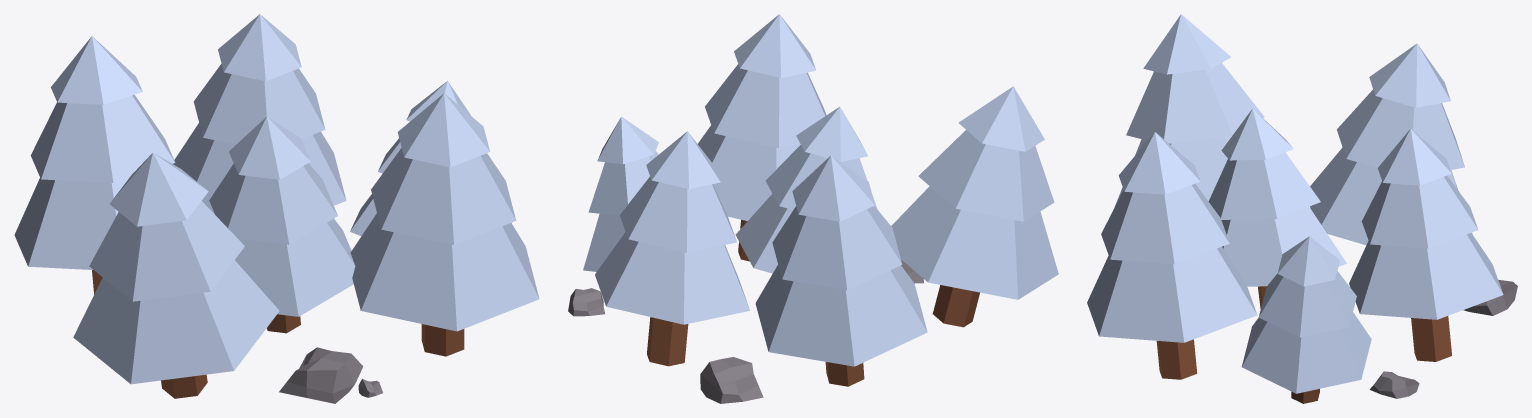
The model's file is SnowyForest.fbx.
The picture shows the model from 3 angles, left to right: view 1: azimuth 30°, elevation 25°; view 2: azimuth 150°, elevation 25°; view 3: azimuth 270°, elevation 25°; orthographic projection. The views are drawn at different scales.
Parts seen in each view (by area): view 1: SnowyForest; view 2: SnowyForest; view 3: SnowyForest.
Part boxes in pixels (x1=…): SnowyForest: x1=14, y1=14, x2=539, y2=403; SnowyForest: x1=568, y1=14, x2=1058, y2=403; SnowyForest: x1=1087, y1=14, x2=1517, y2=403.
Bounding box in the file's own units: 0.9408 × 0.5474 × 0.8806.
